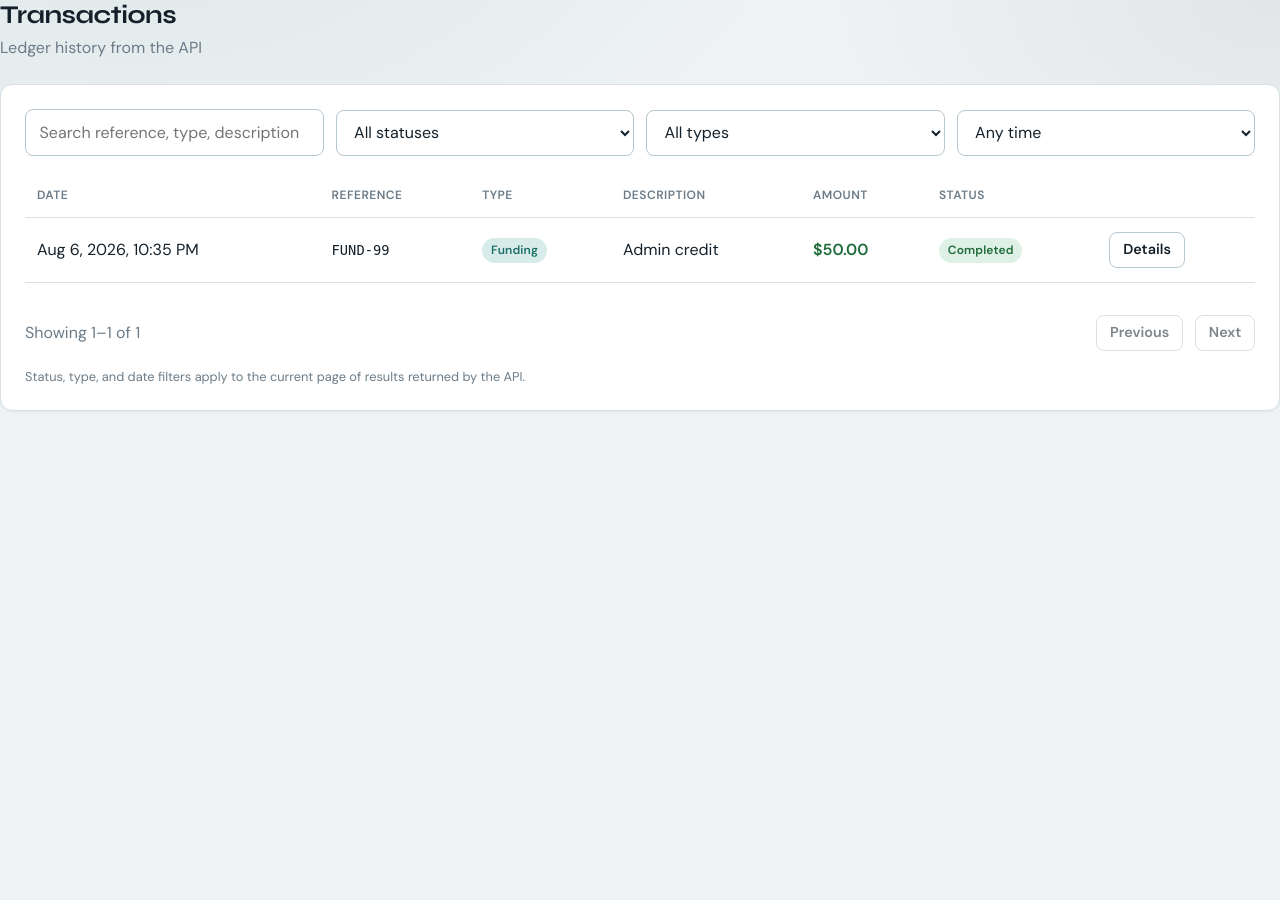
user phase 3 screens › opens transaction details from transactions page
The width and height of the screenshot is (1280, 900).
Step 1. Click the button "Details" → (1147,250), box x1=1109 y1=232 x2=1185 y2=268
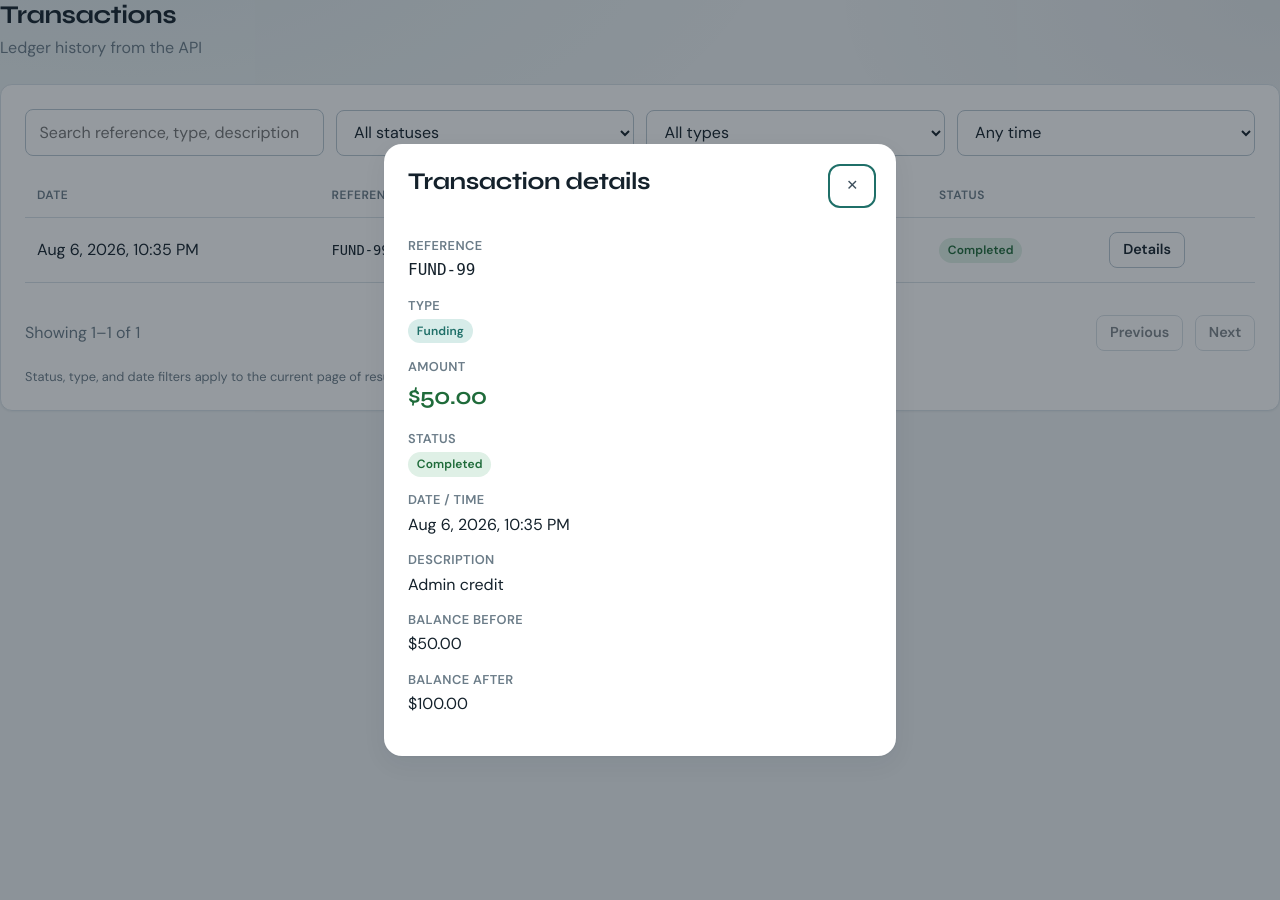
Expected: the dialog is shown, x1=384 y1=144 x2=896 y2=756
Expected: the text "Balance after" is shown, x1=408 y1=671 x2=514 y2=688
